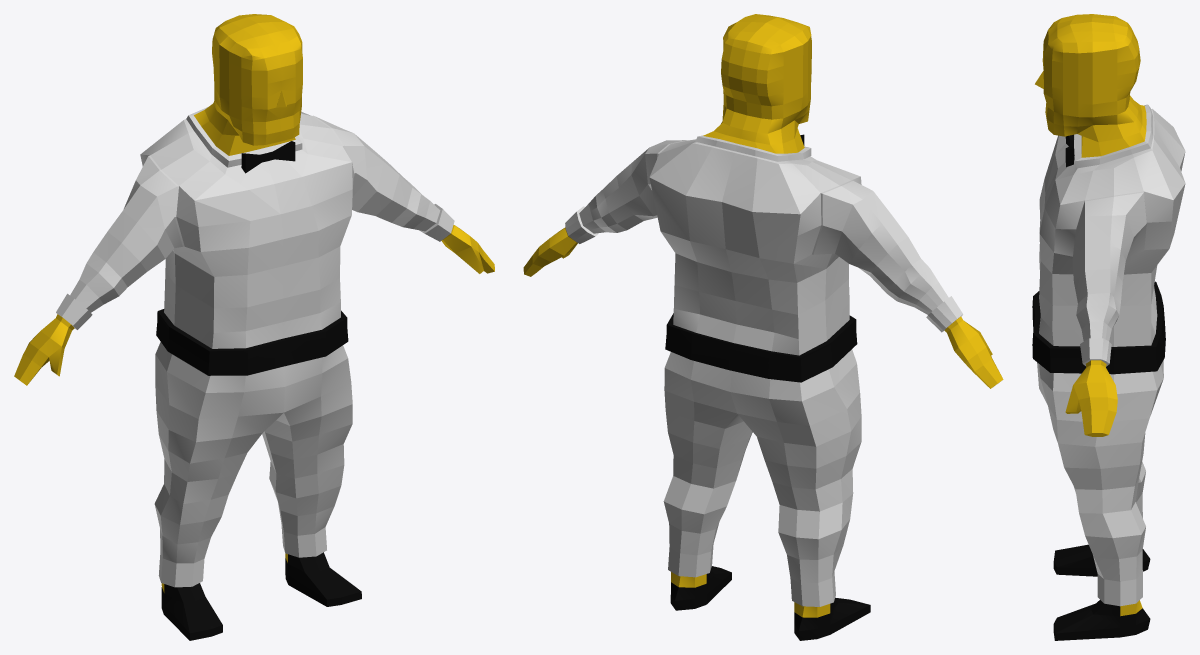
Rendered from Sr_tono.fbx.
3 renders of one model, left to right at view 1: azimuth 30°, elevation 25°; view 2: azimuth 150°, elevation 25°; view 3: azimuth 270°, elevation 25°, orthographic.
Parts seen in each view (by area): view 1: Sr. Tono; view 2: Sr. Tono; view 3: Sr. Tono.
Part boxes in pixels (box(x1,y1,x2,y2)): Sr. Tono: box(14, 14, 494, 640); Sr. Tono: box(523, 14, 1003, 640); Sr. Tono: box(1032, 14, 1185, 640).
Size of the model in its own units: 15.47 by 18.16 by 4.36.
